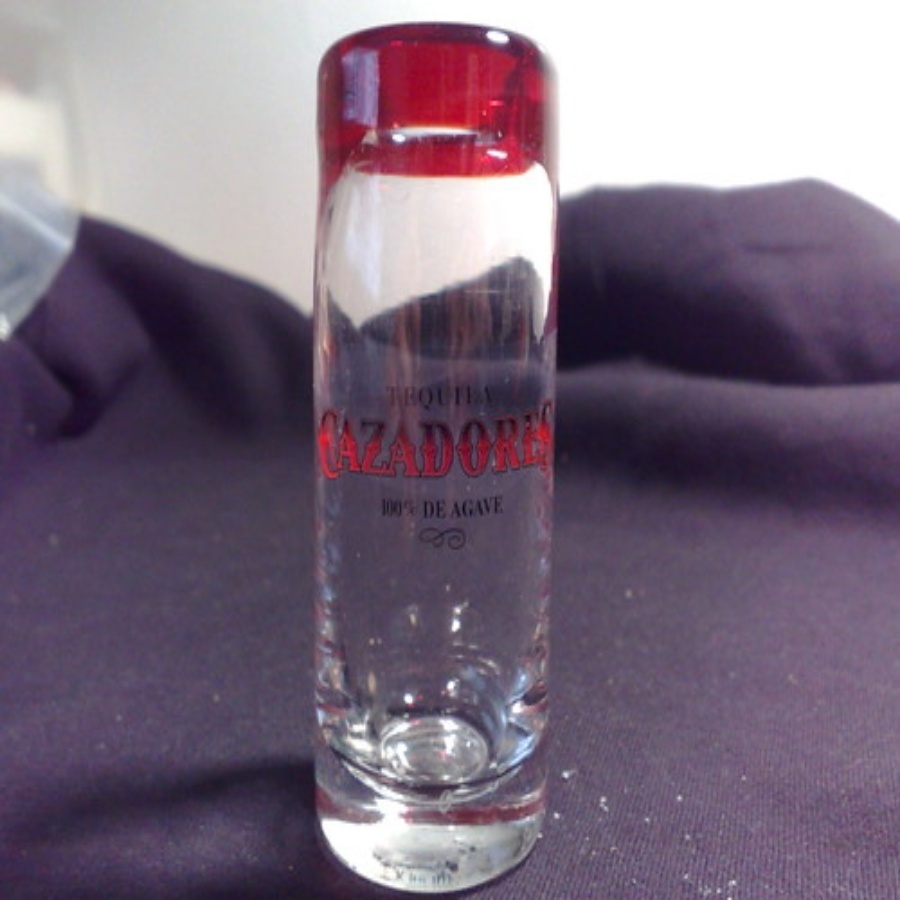whiskey: (308, 63, 565, 836)
